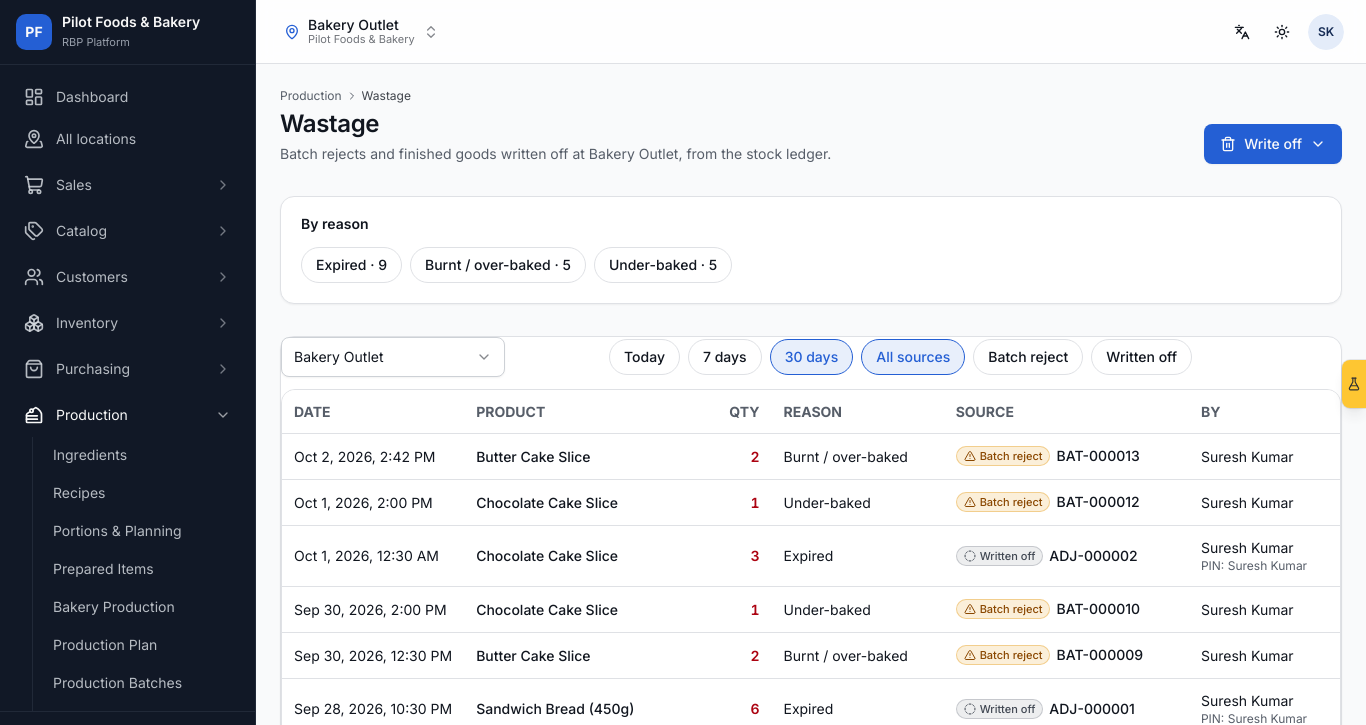
BAK-005 wastage › lists batch rejects and write-offs with totals by reason
Expected: the button "Burnt / over-baked · 5" is shown, x1=410 y1=247 x2=586 y2=283
What coordinates should you click on to do the following:
click the button "Expired · 9"
I would click on:
 (352, 265)
Its box is x1=301 y1=247 x2=402 y2=283.
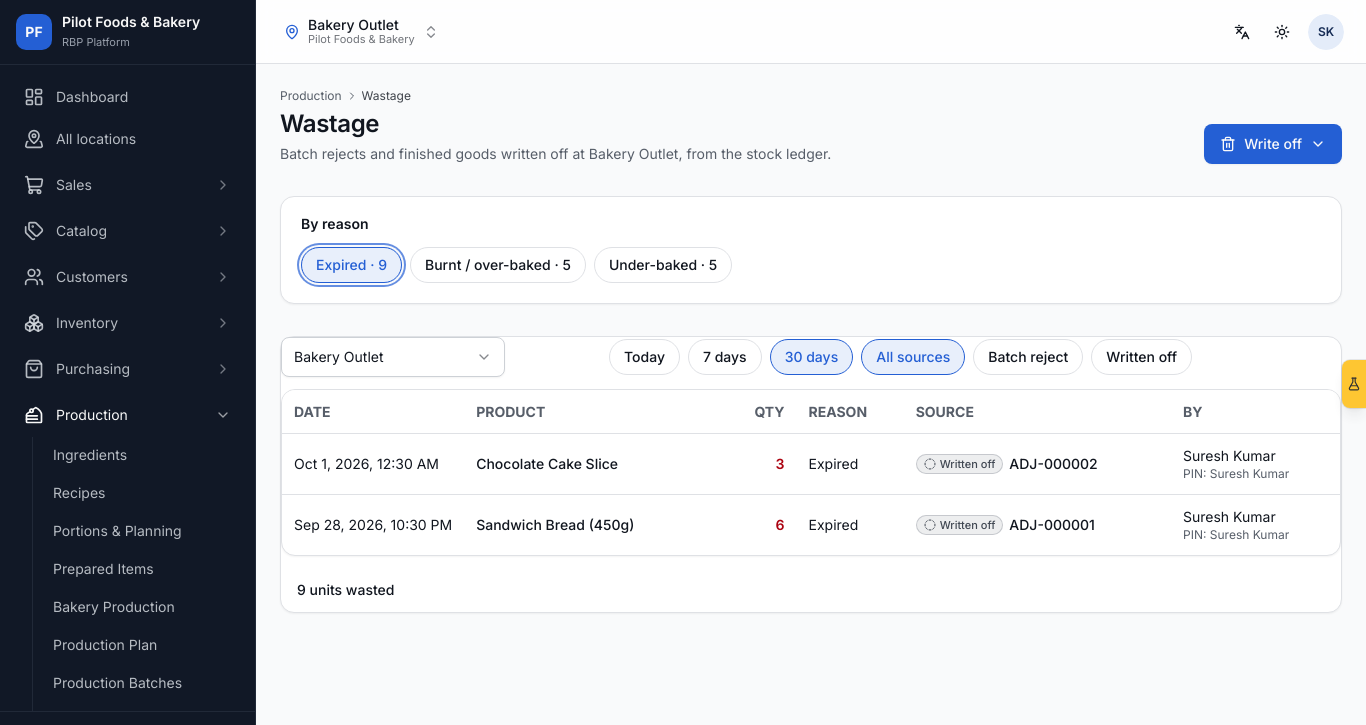
Expected: the text "9 units wasted" is shown, x1=297 y1=581 x2=394 y2=598
